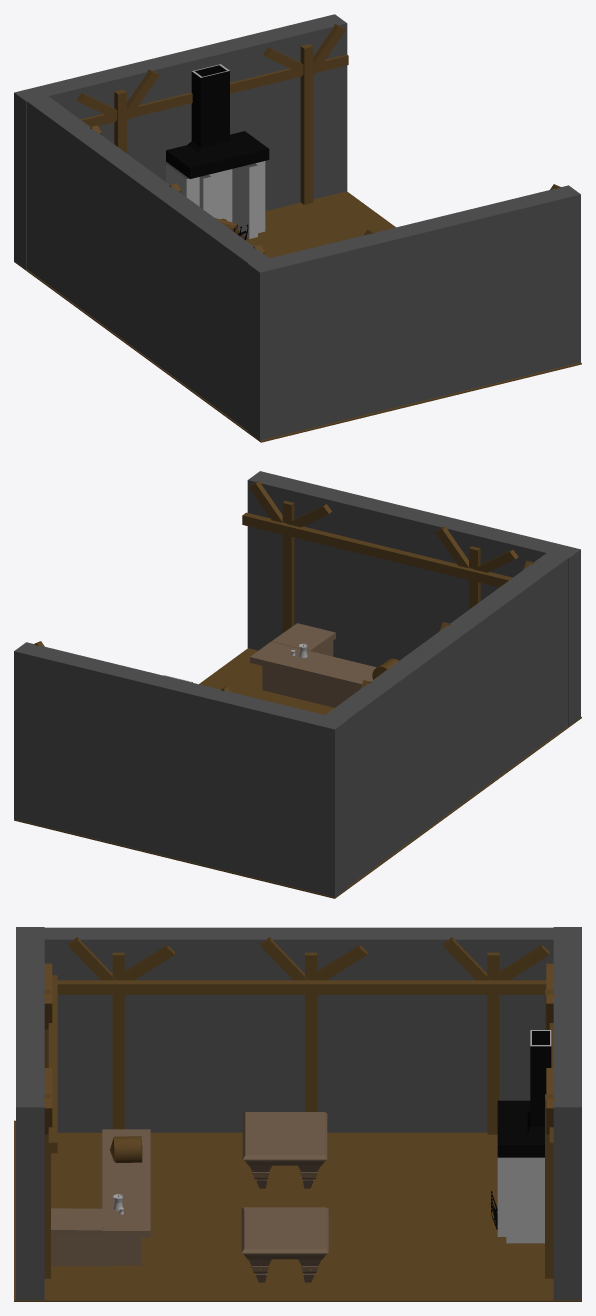
The model's file is blockout_bar.fbx.
The picture shows the model from 3 angles, top to bottom: view 1: azimuth 30°, elevation 25°; view 2: azimuth 150°, elevation 25°; view 3: azimuth 270°, elevation 25°; orthographic projection. The views are drawn at different scales.
Visible parts, largest first — view 1: pCube66, pCube65, pCube64, pCylinder24, pCube63, polySurface91, polySurface98, polySurface90; view 2: pCube64, pCube65, pCube66, pCube63, polySurface99, polySurface110, polySurface92, polySurface107, polySurface93, polySurface109; view 3: pCube65, pCube63, pCube64, pCube66, pCylinder24, polySurface97, pPyramid43, pPyramid42, polySurface110, polySurface89, polySurface86, polySurface91 (+11 smaller).
Boxes of the visible parts, x1,y1,x2,y2 form: pCube66: (247, 185, 580, 440); pCube65: (27, 96, 280, 430); pCube64: (14, 14, 347, 269); pCylinder24: (166, 64, 269, 240); pCube63: (14, 191, 581, 442); polySurface91: (263, 24, 345, 204); polySurface98: (80, 54, 348, 126); polySurface90: (76, 69, 159, 153); pCube64: (14, 642, 347, 897); pCube65: (325, 544, 579, 887); pCube66: (247, 471, 580, 726); pCube63: (14, 648, 581, 898); polySurface99: (242, 512, 512, 587); polySurface110: (250, 641, 376, 689); polySurface92: (249, 481, 331, 632); polySurface107: (262, 666, 359, 707); polySurface93: (435, 526, 518, 609); polySurface109: (271, 623, 335, 652); pCube65: (17, 927, 553, 1132); pCube63: (14, 1120, 581, 1301); pCube64: (553, 927, 581, 1300); pCube66: (16, 927, 44, 1300); pCylinder24: (490, 1030, 551, 1243); polySurface97: (52, 980, 546, 994); pPyramid43: (241, 1207, 328, 1282); pPyramid42: (242, 1112, 327, 1188); polySurface110: (102, 1129, 150, 1237); polySurface89: (68, 937, 174, 1129); polySurface86: (443, 937, 549, 1134); polySurface91: (545, 1068, 555, 1278).
Bounding box in the file's own units: 300 × 153 × 400.
